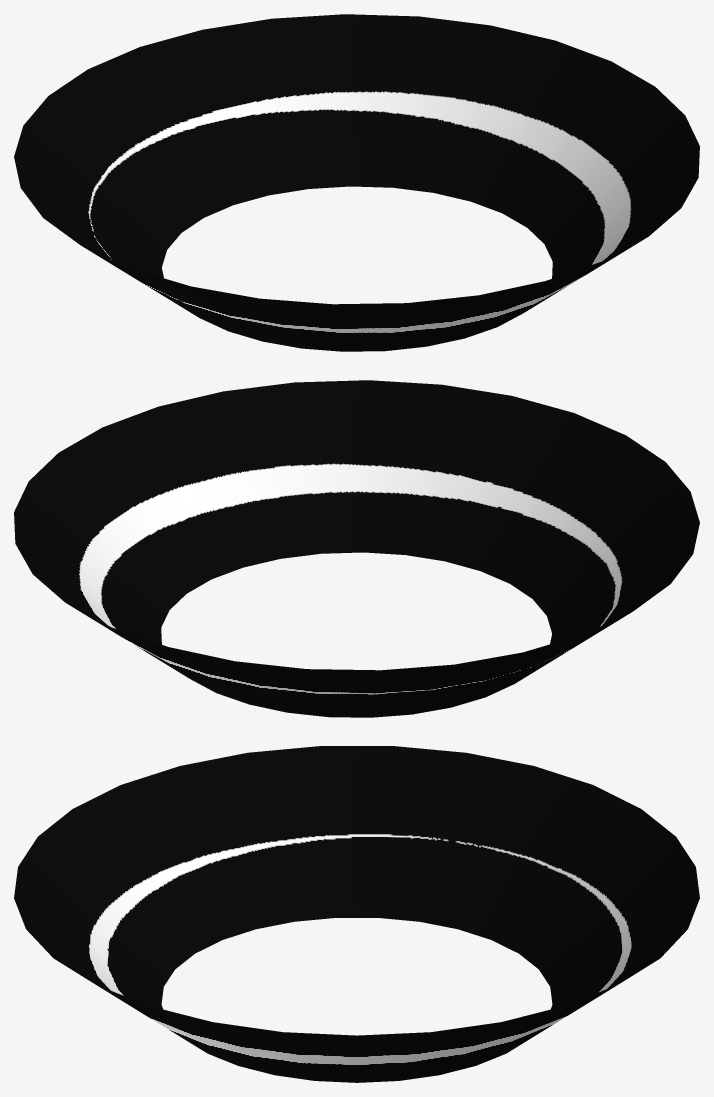
3 views of the same model, one above another, from view 1: azimuth 30°, elevation 25°; view 2: azimuth 150°, elevation 25°; view 3: azimuth 270°, elevation 25° (orthographic).
Visible parts, largest first — view 1: mesh_lc_cone03; view 2: mesh_lc_cone03; view 3: mesh_lc_cone03.
Boxes of the visible parts, x1,y1,x2,y2 form: mesh_lc_cone03: [14, 14, 699, 351]; mesh_lc_cone03: [14, 380, 699, 717]; mesh_lc_cone03: [14, 746, 699, 1082].
Bounding box in the file's own units: 134 × 23.69 × 134.
